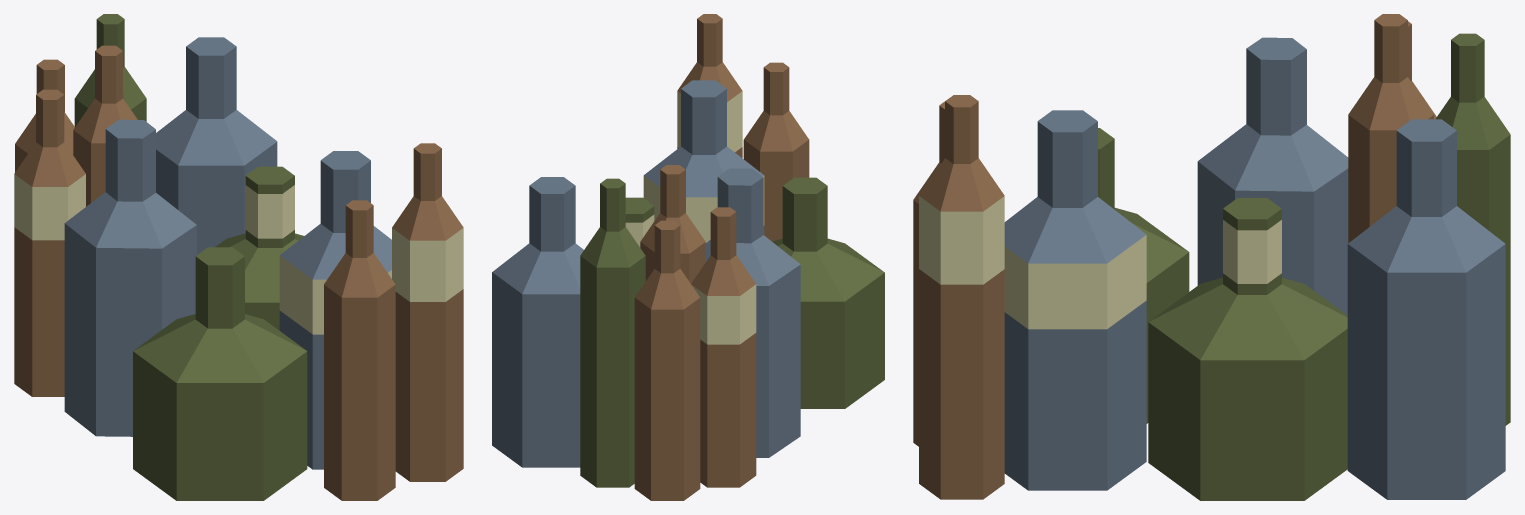
The model's file is Bottles_ShallowCrate.fbx.
3 renders of one model, left to right at view 1: azimuth 30°, elevation 25°; view 2: azimuth 150°, elevation 25°; view 3: azimuth 270°, elevation 25°, orthographic. The views are drawn at different scales.
Parts seen in each view (by area): view 1: Bottles; view 2: Bottles; view 3: Bottles.
Boxes of the visible parts, left/top/right/bottom form: Bottles: left=14, top=14, right=463, bottom=500; Bottles: left=492, top=14, right=884, bottom=500; Bottles: left=913, top=14, right=1510, bottom=500.
Size of the model in its own units: 93.96 by 114 by 161.
